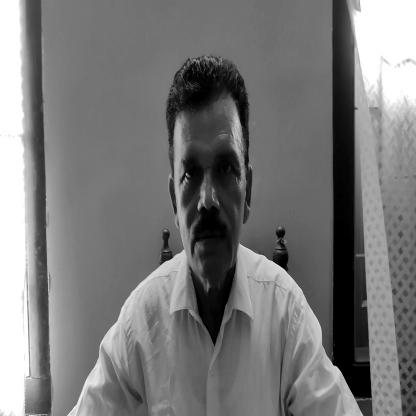Normal: (163, 61, 254, 288)
